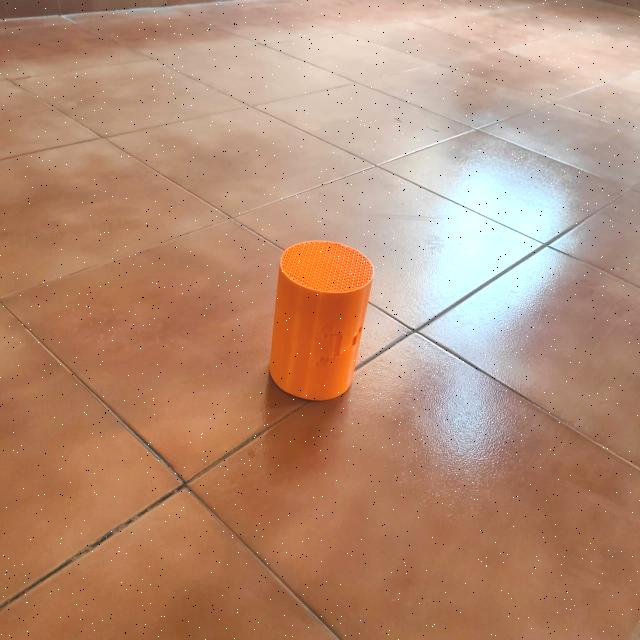Cylinder: (268, 239, 376, 401)
